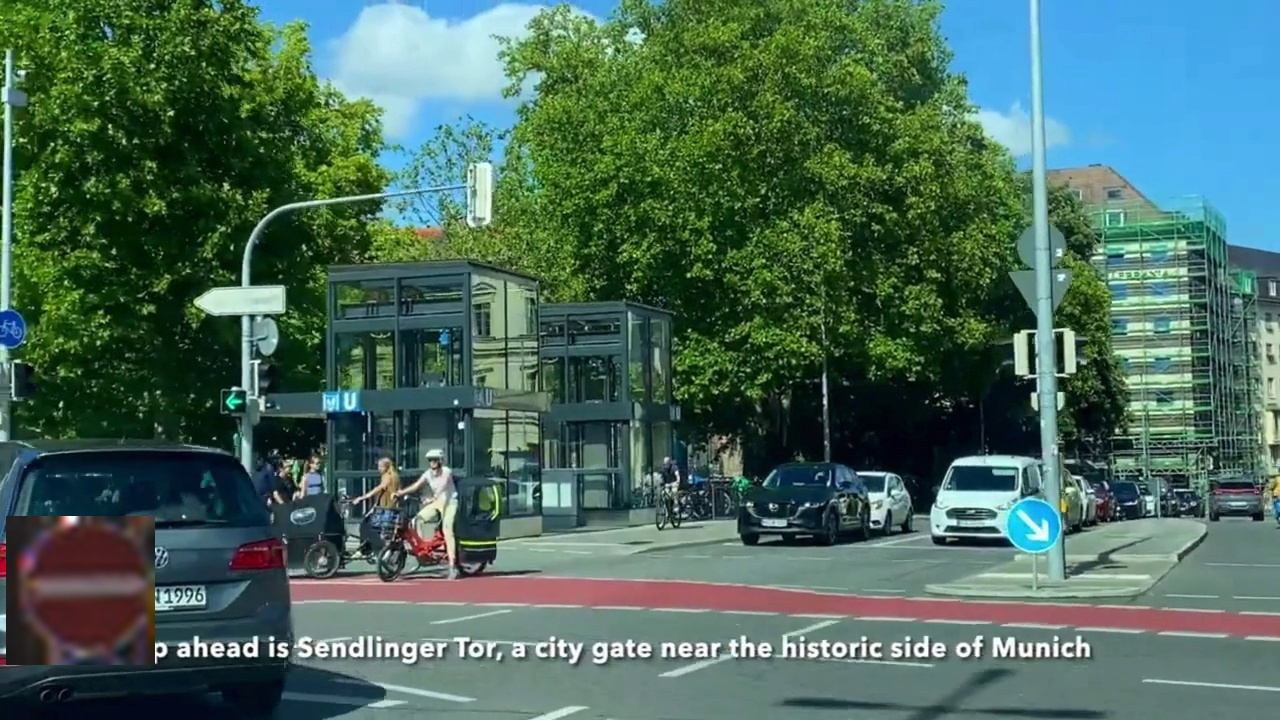No entry: (6, 516, 155, 665)
